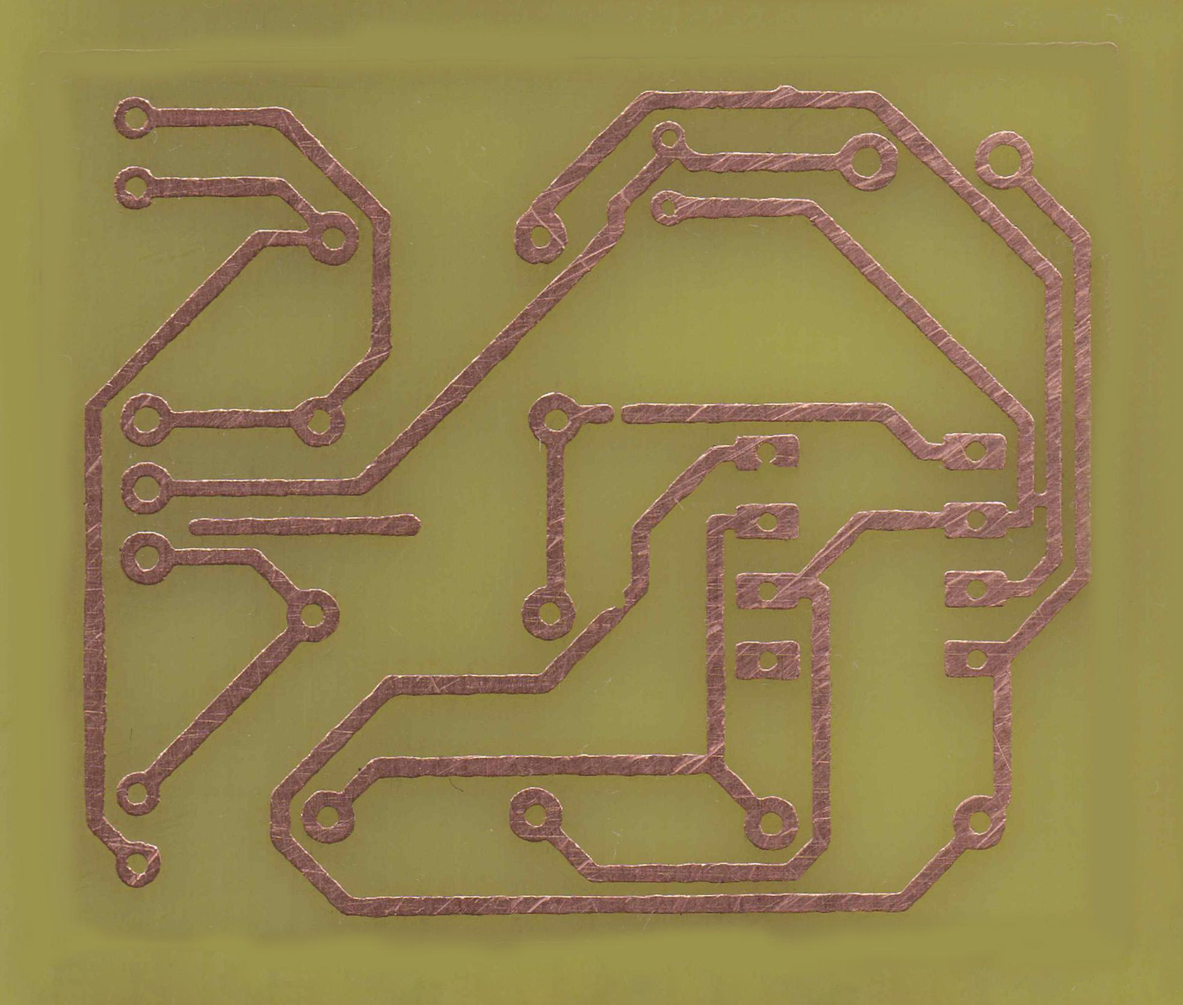missing_hole: (732, 429, 804, 475)
mouse_bite: (601, 585, 641, 619)
open_circuit: (599, 397, 636, 430)
short: (1010, 480, 1069, 515)
spur: (764, 79, 805, 116)
spurious_copper: (185, 511, 424, 540)
